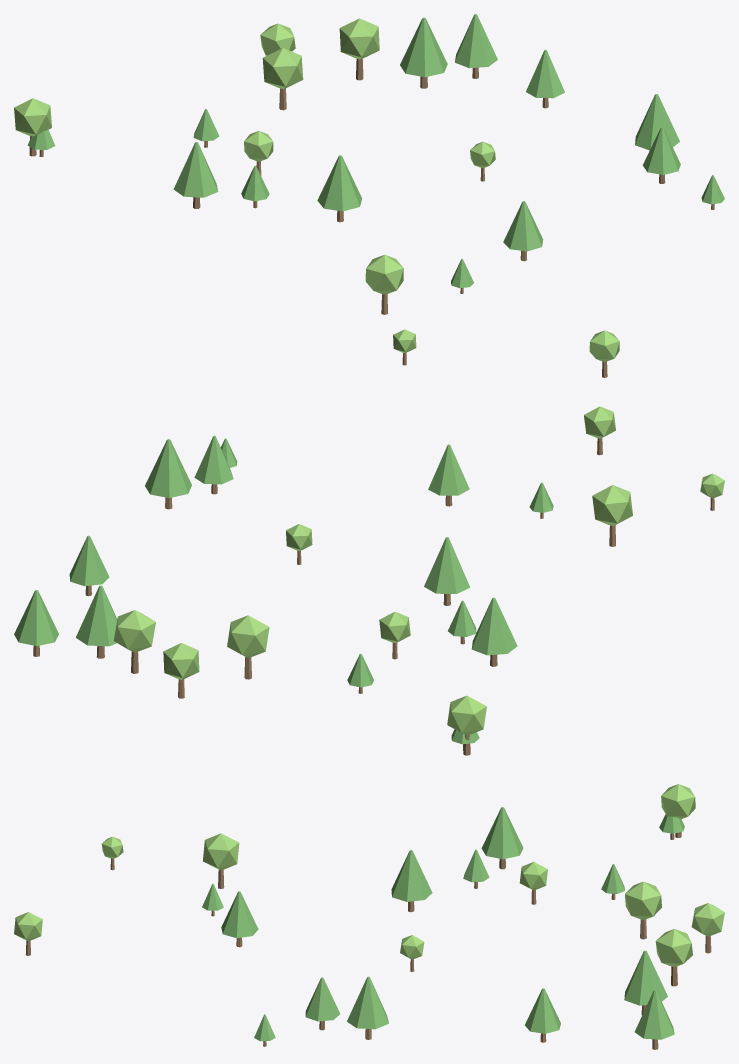
The model's file is PropsQ_es-transformed.glb.
The picture shows the model from 3 angles, top to bottom: view 1: azimuth 30°, elevation 25°; view 2: azimuth 150°, elevation 25°; view 3: azimuth 270°, elevation 25°; orthographic projection. The views are drawn at different scales.
Parts seen in each view (by area): view 1: PropsQ_es; view 2: PropsQ_es; view 3: PropsQ_es.
Boxes of the visible parts, x1,y1,x2,y2 form: PropsQ_es: [14, 14, 724, 377]; PropsQ_es: [14, 406, 724, 755]; PropsQ_es: [14, 784, 724, 1049].
Size of the model in its own units: 84.35 by 14.83 by 114.
